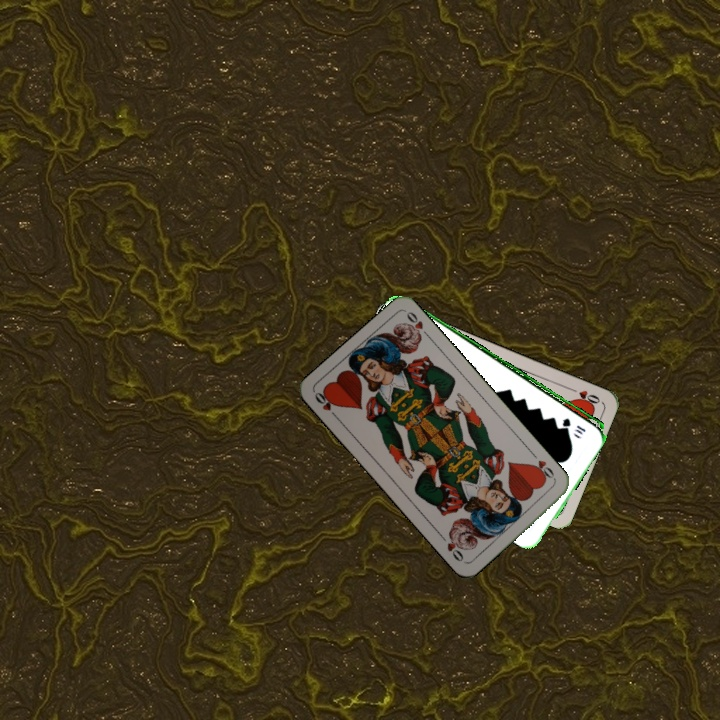G10: (559, 414, 588, 434)
HO: (310, 387, 342, 422), (527, 449, 558, 484), (565, 383, 603, 408)
